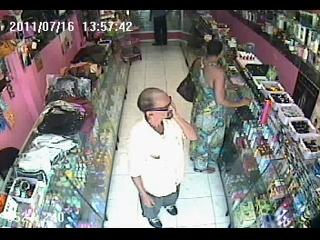Normal: (128, 88, 198, 228), (189, 39, 252, 174), (176, 57, 200, 103), (150, 10, 168, 46)
